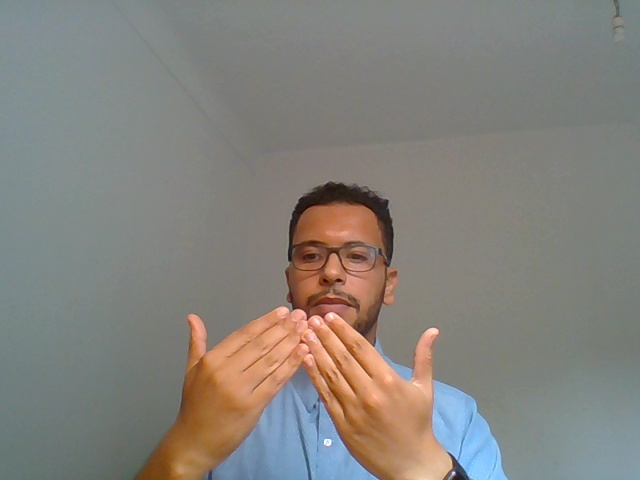thanks: (147, 284, 493, 480)
